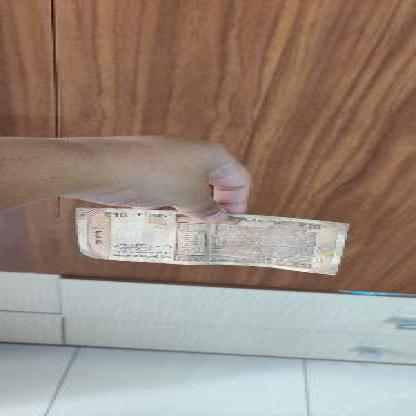New10Back: (76, 209, 336, 274)
